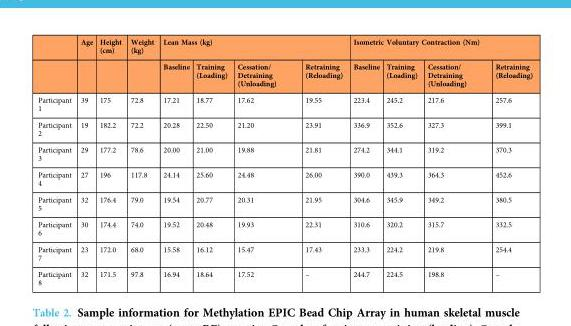table: (37, 37, 532, 286)
table column: (231, 37, 290, 286), (421, 37, 480, 286), (290, 37, 347, 286), (480, 37, 532, 286), (192, 37, 231, 286), (382, 37, 421, 286), (37, 37, 75, 286), (157, 37, 192, 286), (347, 37, 382, 286), (125, 37, 157, 286), (95, 37, 125, 286), (75, 37, 95, 286)
table column header: (37, 37, 532, 91)
table row: (37, 57, 532, 91), (37, 91, 532, 116), (37, 140, 532, 165), (37, 165, 532, 190), (37, 190, 532, 215), (37, 215, 532, 240), (37, 240, 532, 265), (37, 116, 532, 140), (37, 265, 532, 286), (37, 37, 532, 57)
table spanning cell: (157, 37, 347, 57), (347, 37, 532, 57), (125, 37, 157, 91), (95, 37, 125, 91), (75, 37, 95, 91)
